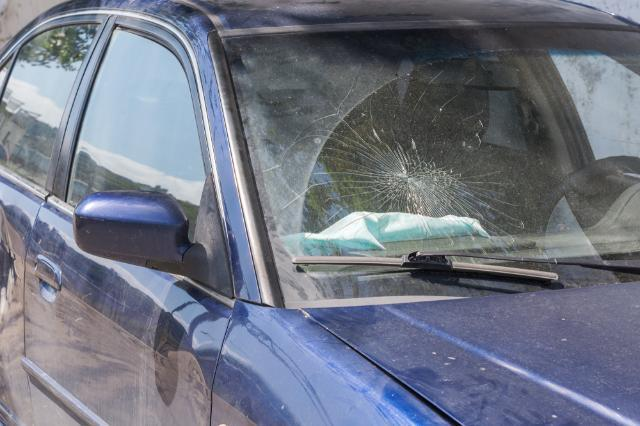glass shatter: (223, 27, 640, 311)
